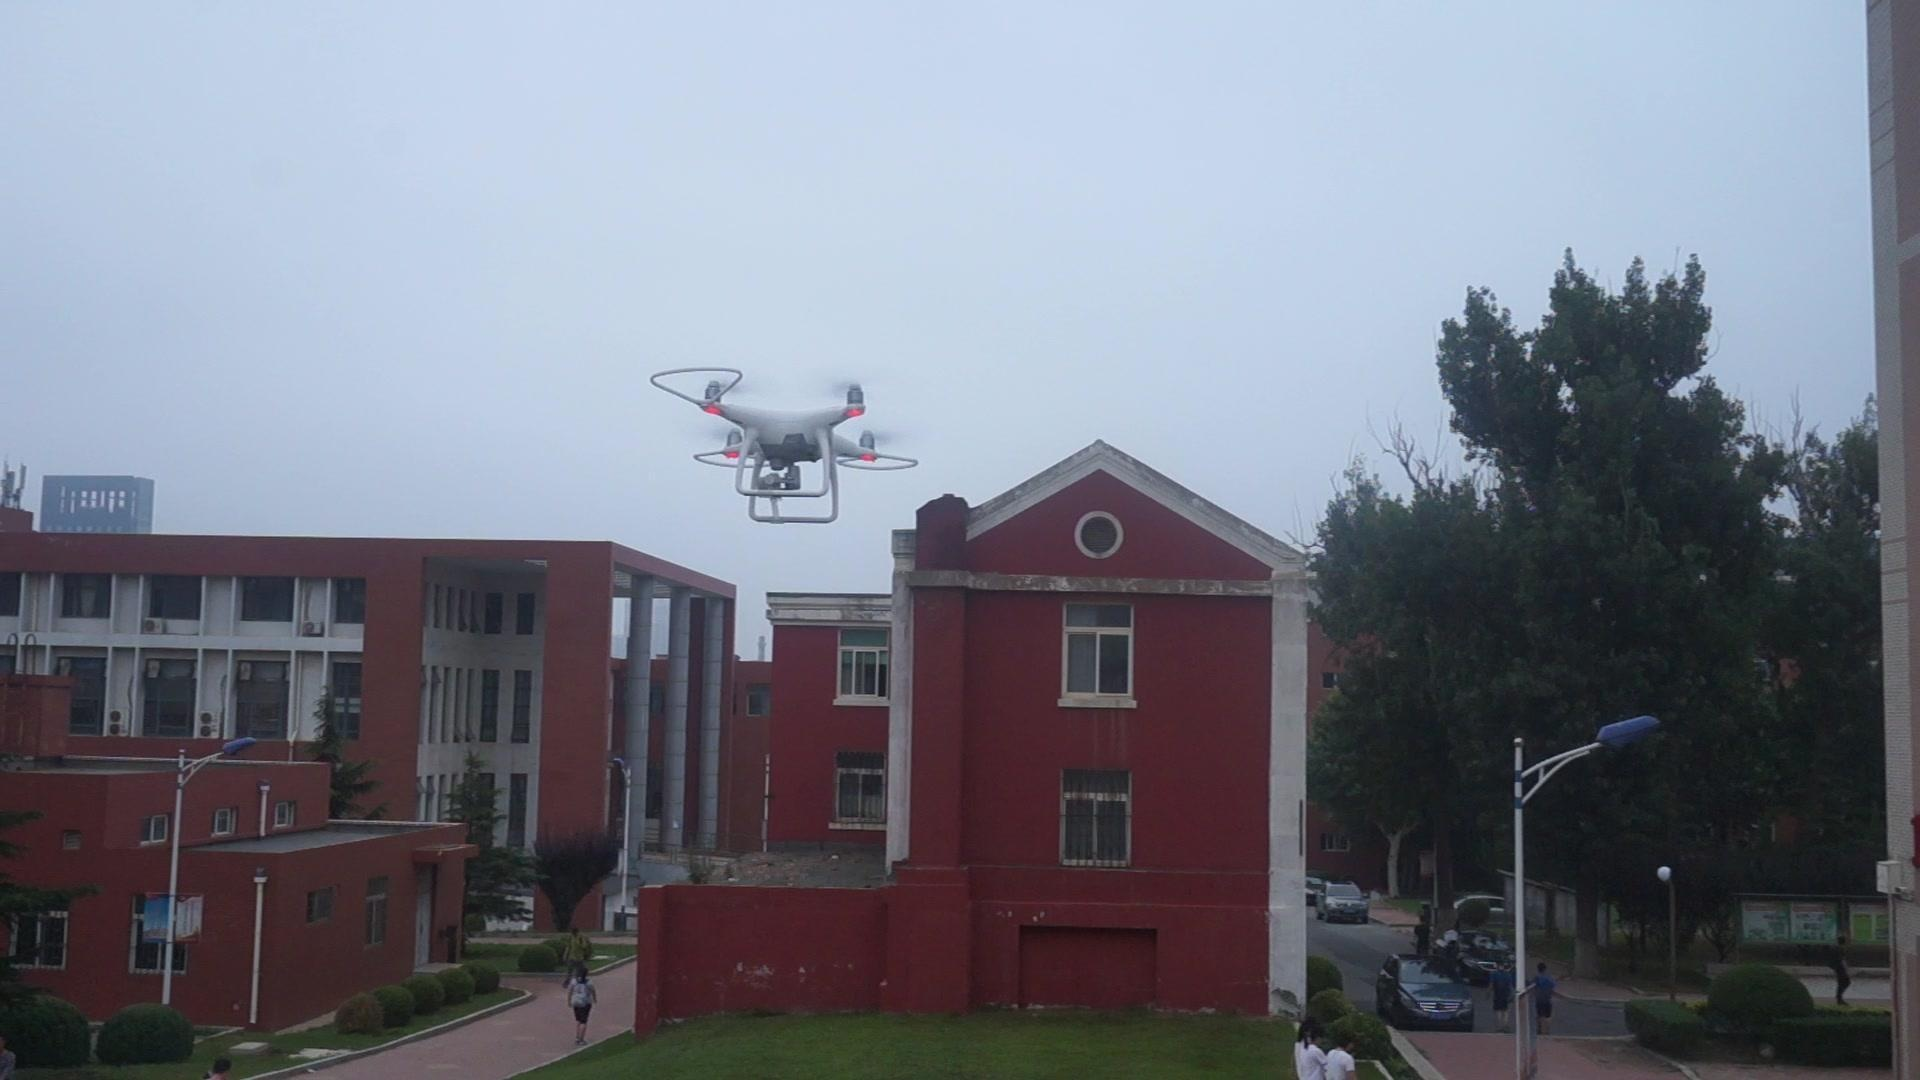UAV: (651, 368, 920, 525)
